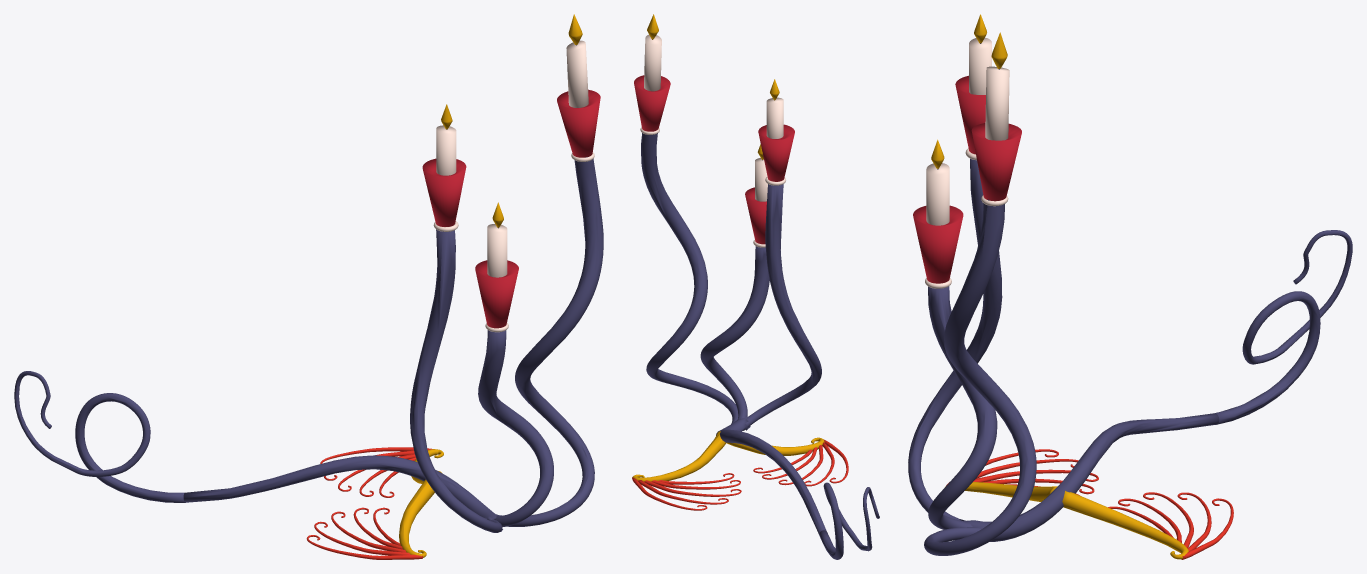
The model's file is Candelabra1.fbx.
3 renders of one model, left to right at view 1: azimuth 30°, elevation 25°; view 2: azimuth 150°, elevation 25°; view 3: azimuth 270°, elevation 25°, orthographic. The views are drawn at different scales.
Visible parts, largest first — view 1: Candelabra1; view 2: Candelabra1; view 3: Candelabra1.
Boxes of the visible parts, x1=… form: Candelabra1: x1=14, y1=14, x2=603, y2=559; Candelabra1: x1=632, y1=14, x2=879, y2=559; Candelabra1: x1=908, y1=14, x2=1352, y2=559.
Size of the model in its own units: 1.21 by 1.31 by 0.9428.
